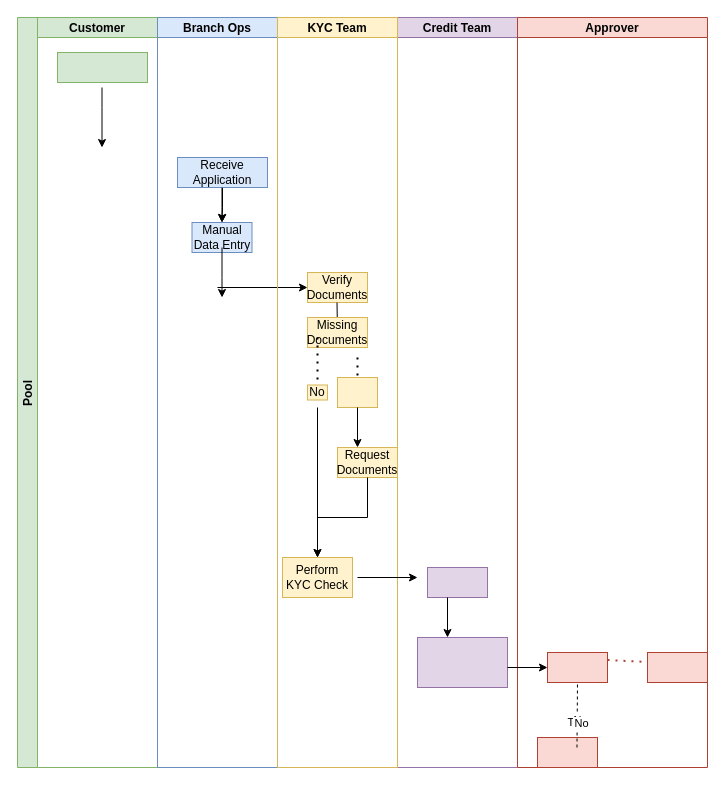
Image size: 725x785. Some labels were removed from this diagram. The centre of each missing label's shape, as x and y in pixels:
"Credit Assessment" belongs at [457,582].
"Loan Approval" belongs at [577,667].
"Loan Disbursed" belongs at [677,667].
"Rejected" belongs at [567,752].
"Risk Evaluation" belongs at [462,662].
"Submit form" belongs at [102,67].
"Yes" belongs at [357,392].
